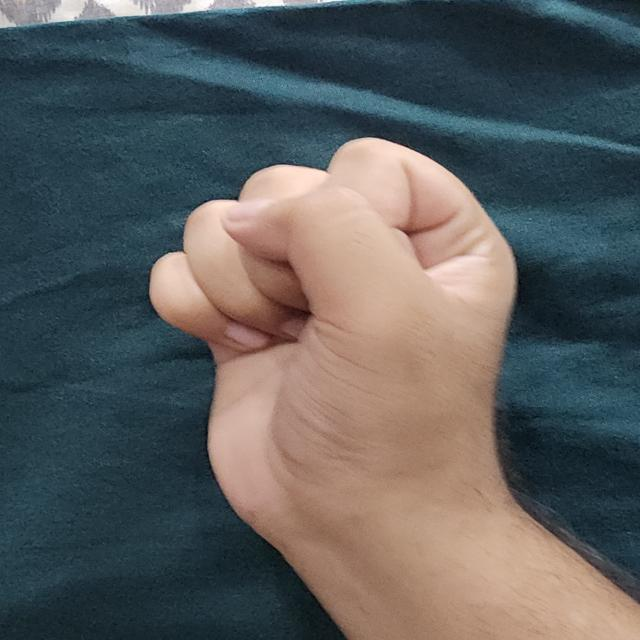ث: (139, 121, 569, 621)
